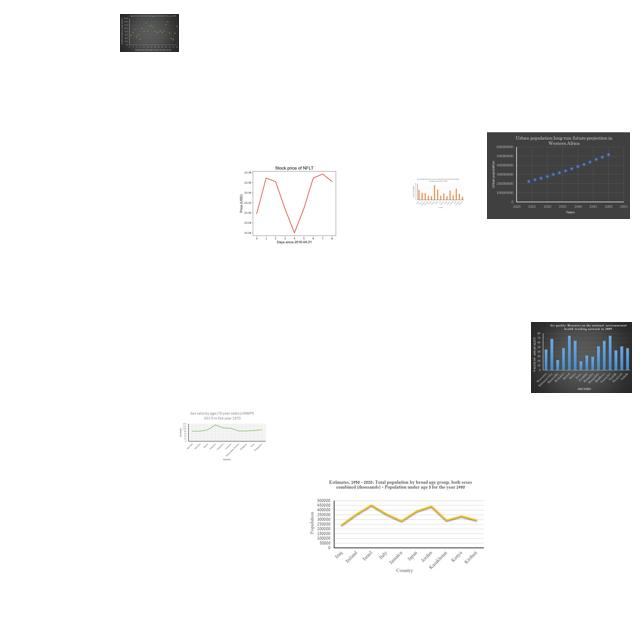Graph: (308, 477, 488, 576), (487, 132, 630, 219), (237, 161, 349, 245), (531, 322, 632, 393), (177, 410, 267, 462), (120, 14, 179, 52), (411, 177, 465, 209)
